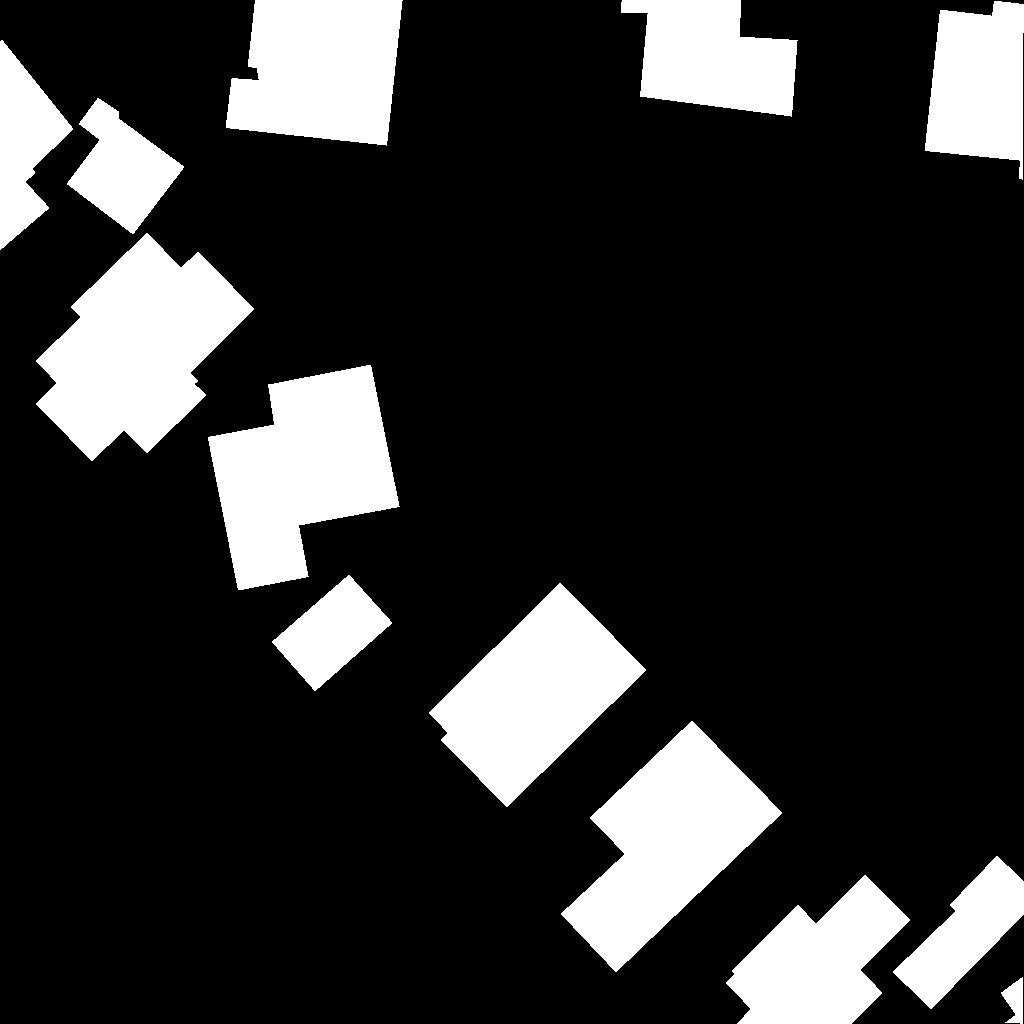building: (561, 721, 783, 973), (36, 233, 255, 462), (429, 583, 647, 808), (208, 365, 400, 591), (726, 875, 911, 1024), (226, 0, 403, 146), (621, 0, 798, 117), (893, 856, 1024, 1010), (925, 1, 1024, 180), (67, 98, 185, 235), (0, 40, 74, 251), (272, 575, 393, 692), (1001, 977, 1024, 1024), (1021, 540, 1024, 545)
